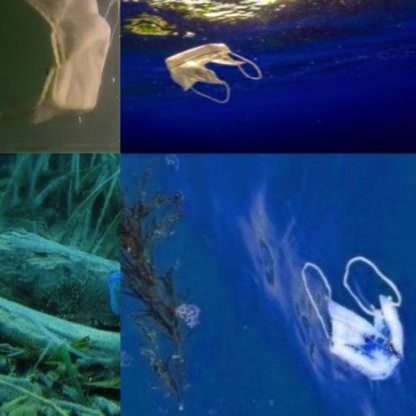Mask: (0, 0, 113, 152), (298, 252, 400, 381), (164, 32, 261, 106)
